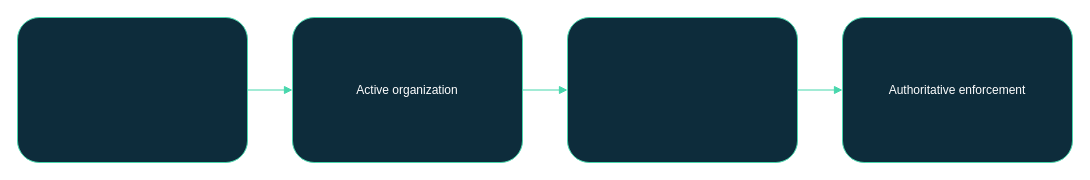
This 1090x180 diagram has some shape labels left out. Here are the shapes that lost their labels. From the top down, the centre of each, then its label:
At (132,89): "OIDC identity".
At (682,89): "AuthZEN batch".
